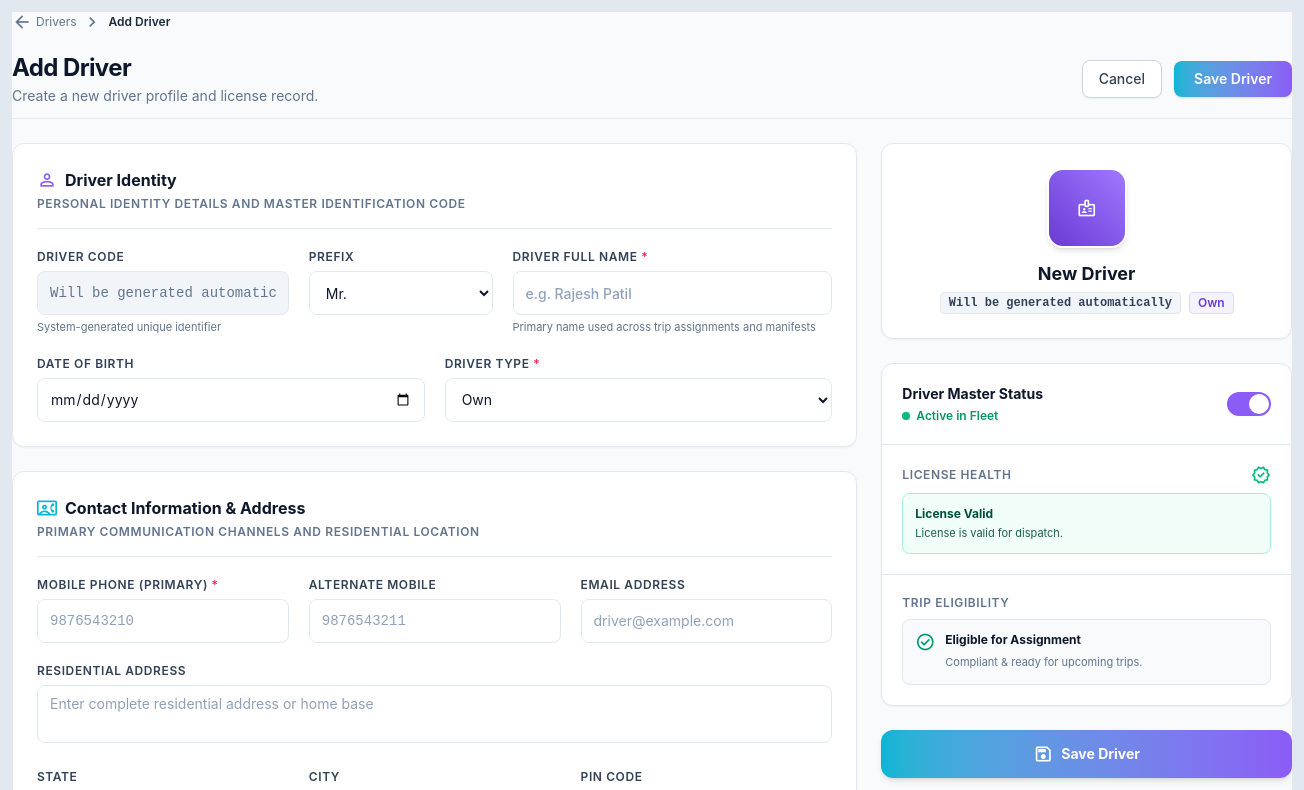
Test: DriverForm › updates alternate mobile and removes non-numeric characters
Type "9876abc54321" into the field labelled "Alternate Mobile". click: (435, 620)
box: left=309, top=598, right=561, bottom=642
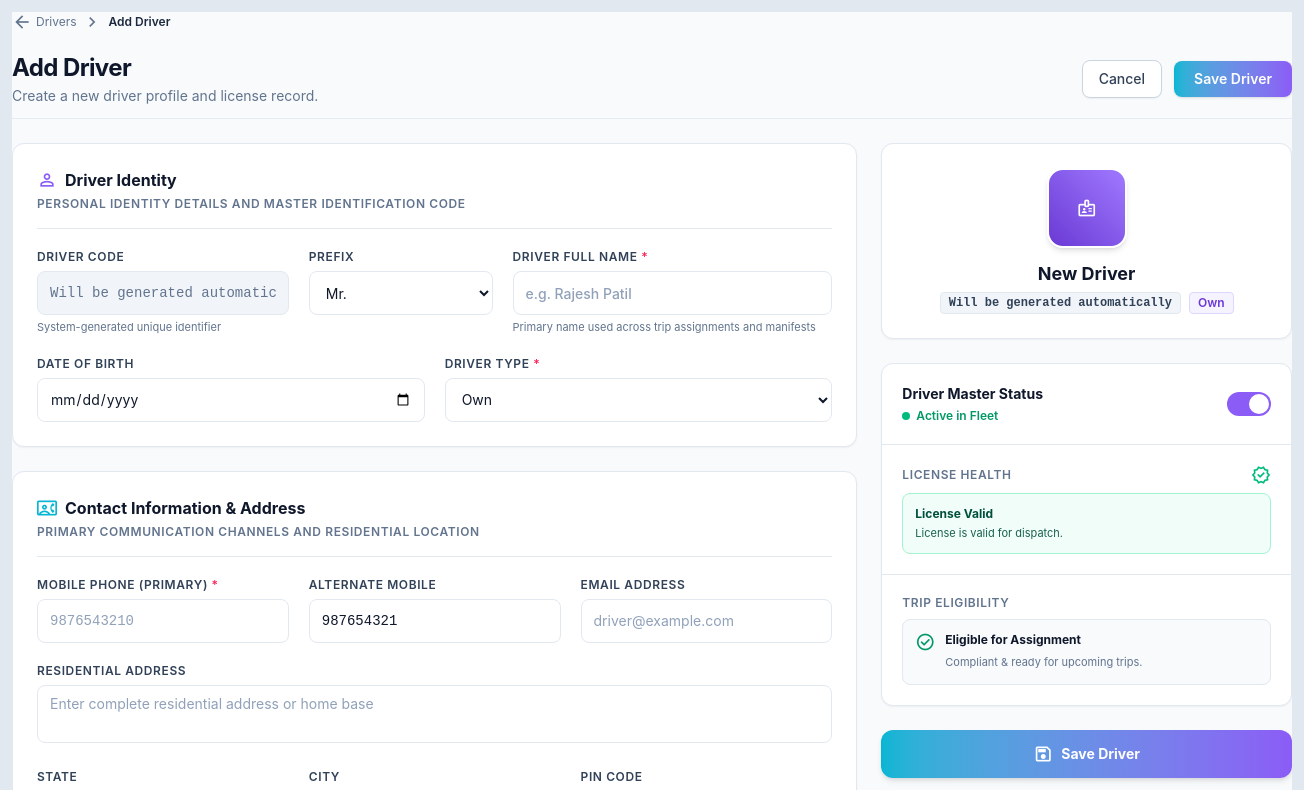
Expected: the field labelled "Alternate Mobile" holds "987654321", left=309, top=598, right=561, bottom=642
